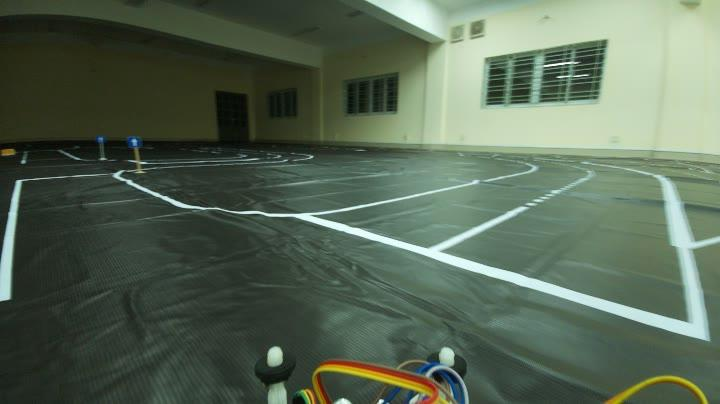onewayroad: (124, 133, 142, 148), (96, 133, 106, 142)
